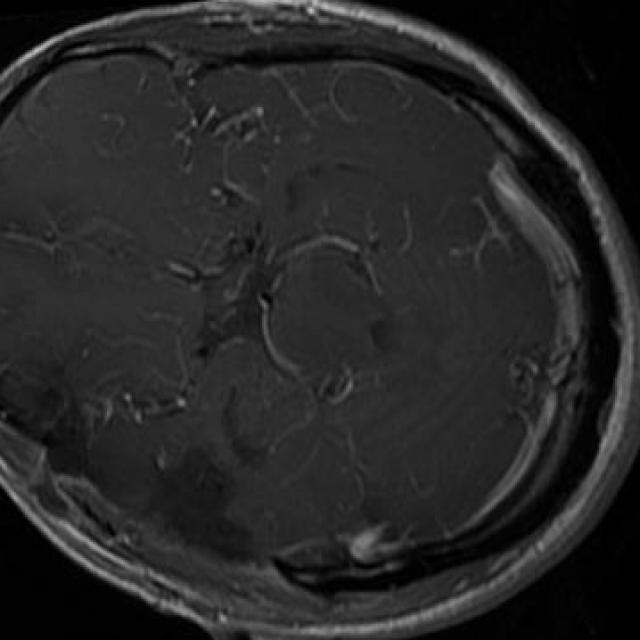glioma: (162, 446, 255, 558)
